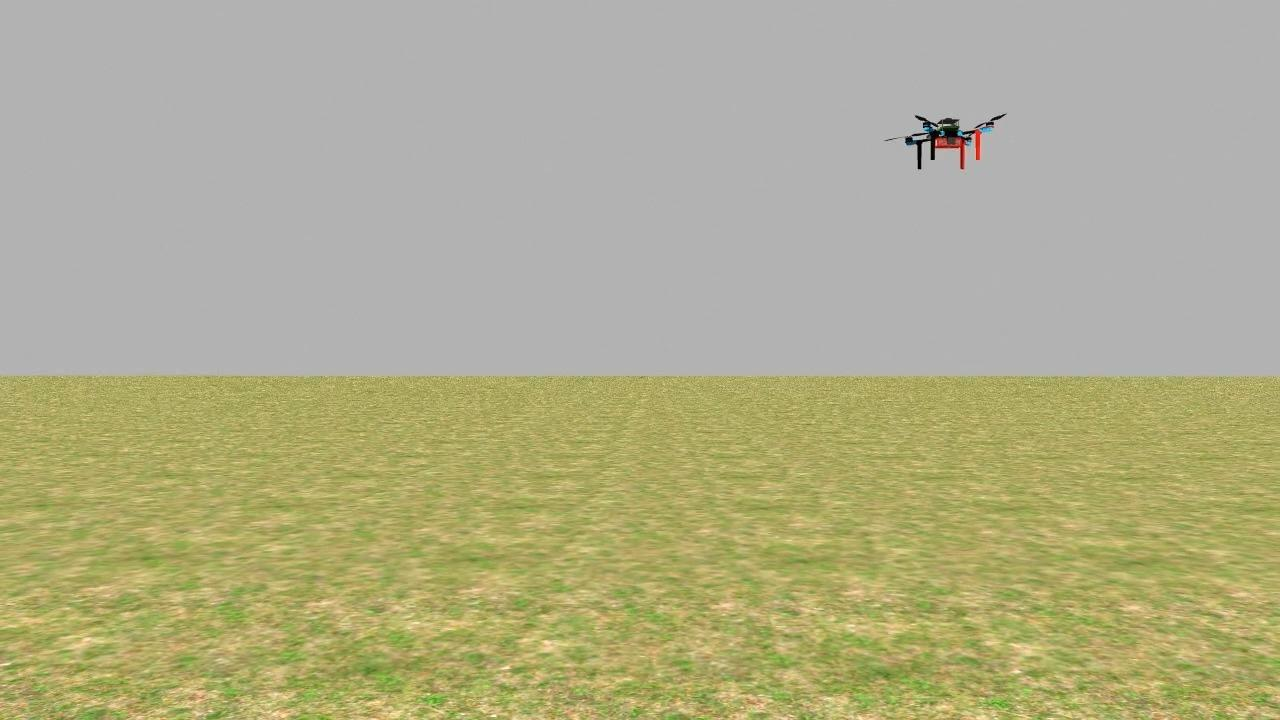UAV: (897, 106, 1003, 176)
